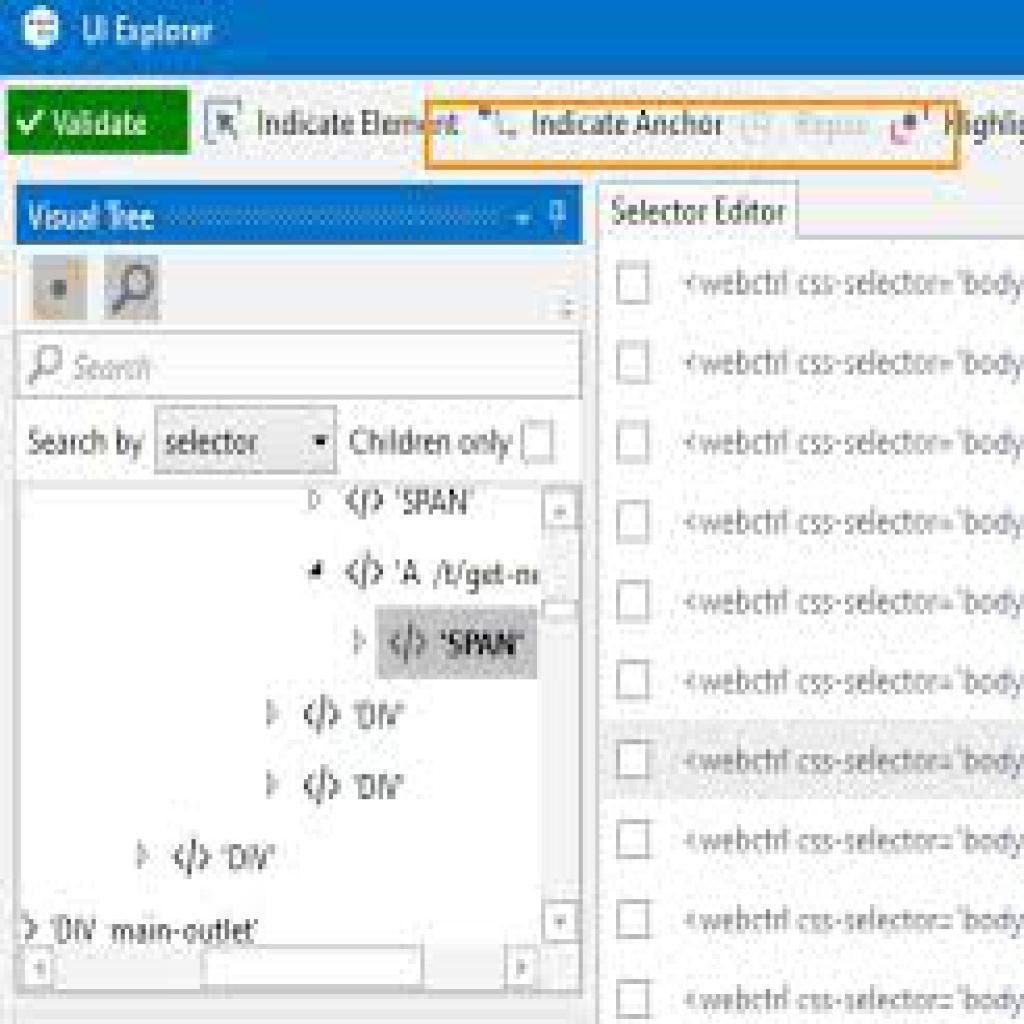button: (18, 186, 586, 245), (8, 88, 193, 155)
checkbox: (616, 418, 653, 468), (616, 578, 653, 628), (616, 340, 654, 387), (615, 502, 652, 548), (521, 420, 556, 466), (615, 262, 652, 305), (615, 898, 651, 942), (618, 739, 653, 783), (616, 660, 651, 703), (615, 981, 652, 1021), (616, 821, 652, 861)
dropdown: (156, 408, 337, 472)
icon: (18, 345, 70, 388)
input: (12, 330, 582, 398)
